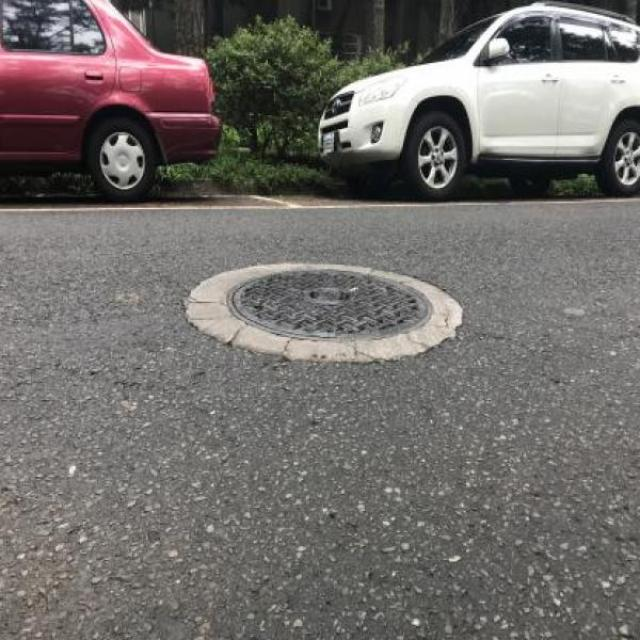Good: (229, 265, 441, 344)
